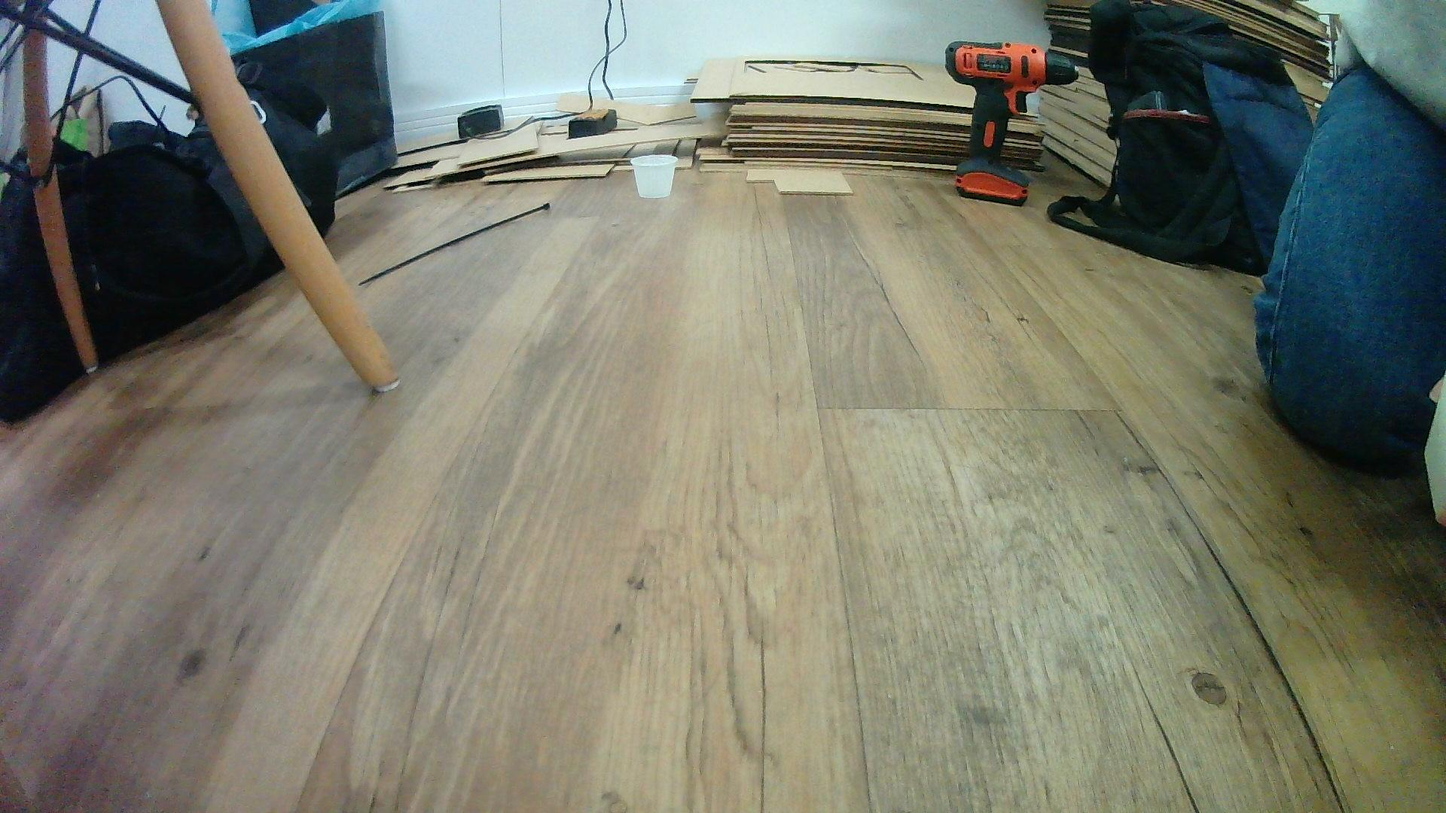planta: (625, 149, 687, 204)
